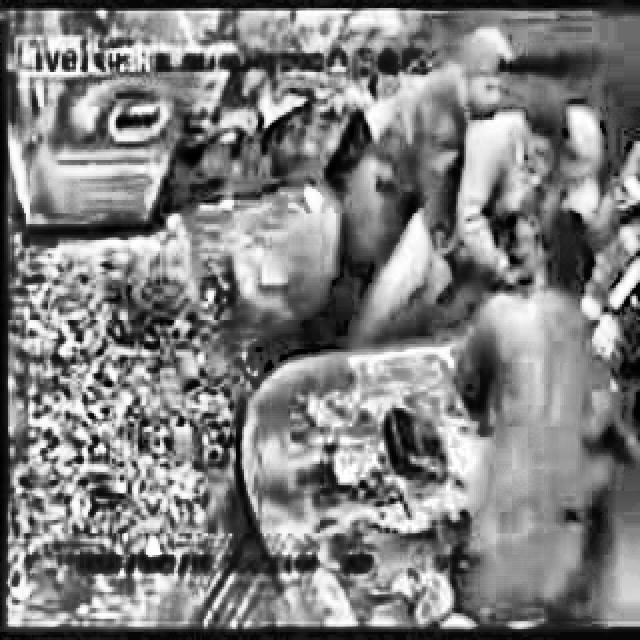robbery: (349, 22, 572, 346)
